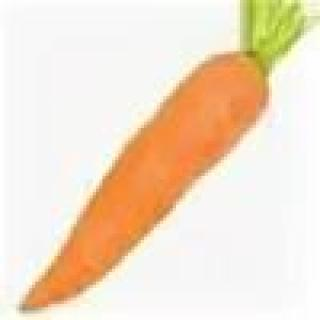Wortel: (14, 1, 318, 311)
